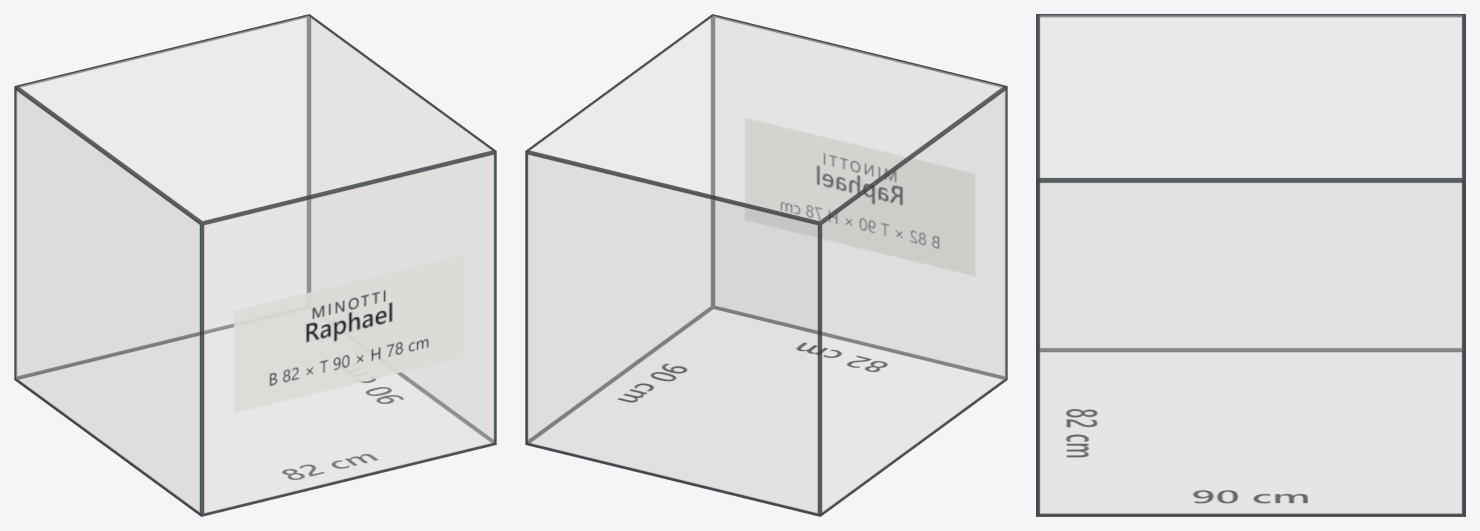
File: armchairs-raphael-armchairs.glb
3 views of the same model, side by side, from view 1: azimuth 30°, elevation 25°; view 2: azimuth 150°, elevation 25°; view 3: azimuth 270°, elevation 25° (orthographic). The views are drawn at different scales.
Visible parts, largest first — view 1: Vorderseite, Rueckseite, Links, Oben, Grundflaeche, Rechts; view 2: Rueckseite, Vorderseite, Links, Oben, Rechts, Grundflaeche; view 3: Rechts, Links, Oben, Grundflaeche.
Part boxes in pixels (box(x1,y1,x2,y2)): Vorderseite: box(201, 151, 496, 516); Rueckseite: box(16, 16, 309, 378); Links: box(14, 86, 201, 516); Oben: box(14, 14, 496, 222); Grundflaeche: box(17, 326, 493, 512); Rechts: box(309, 17, 493, 441); Rueckseite: box(525, 151, 820, 516); Vorderseite: box(712, 16, 1005, 378); Links: box(820, 86, 1007, 516); Oben: box(525, 14, 1007, 222); Rechts: box(528, 17, 712, 441); Grundflaeche: box(528, 307, 1004, 512); Rechts: box(1036, 179, 1465, 516); Links: box(1039, 15, 1462, 350); Oben: box(1036, 14, 1465, 179); Grundflaeche: box(1039, 350, 1462, 513).
Size of the model in its own units: 0.82 by 0.78 by 0.9.
Materials: 6 (6 with a texture image).
